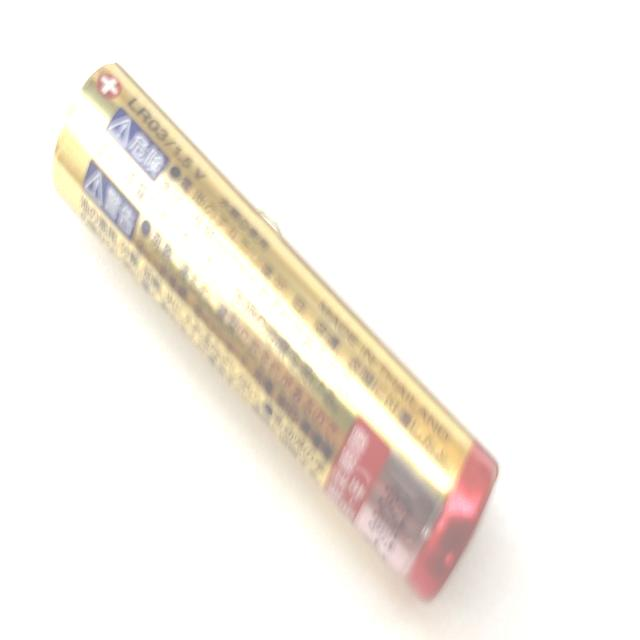AAA: (48, 60, 502, 602)
